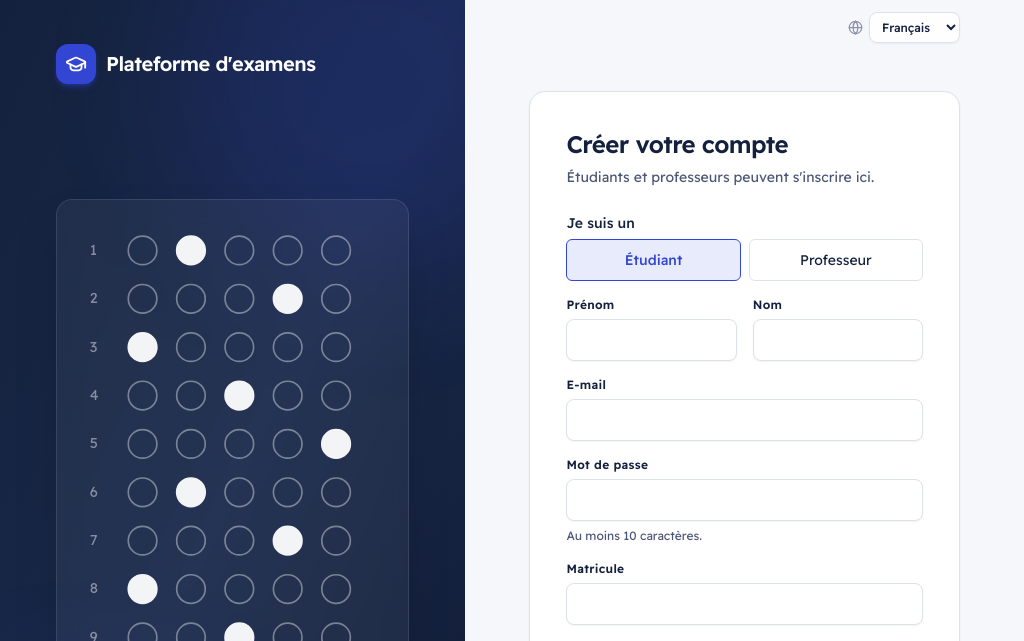
Test: register › professor form has no matricule and sends no student fields
Click the radio button labelled "Professeur" at (836, 260), box x1=749 y1=239 x2=923 y2=281
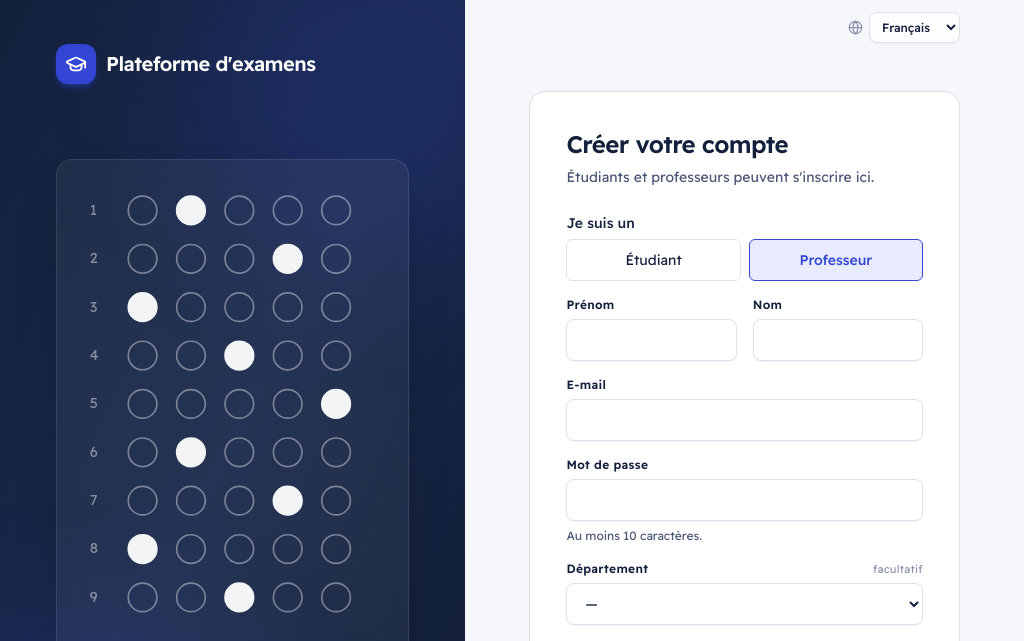
Result: the text labelled "Matricule" is gone
Type "Omar" into the field labelled "Prénom" at (652, 340), box x1=566 y1=319 x2=737 y2=361
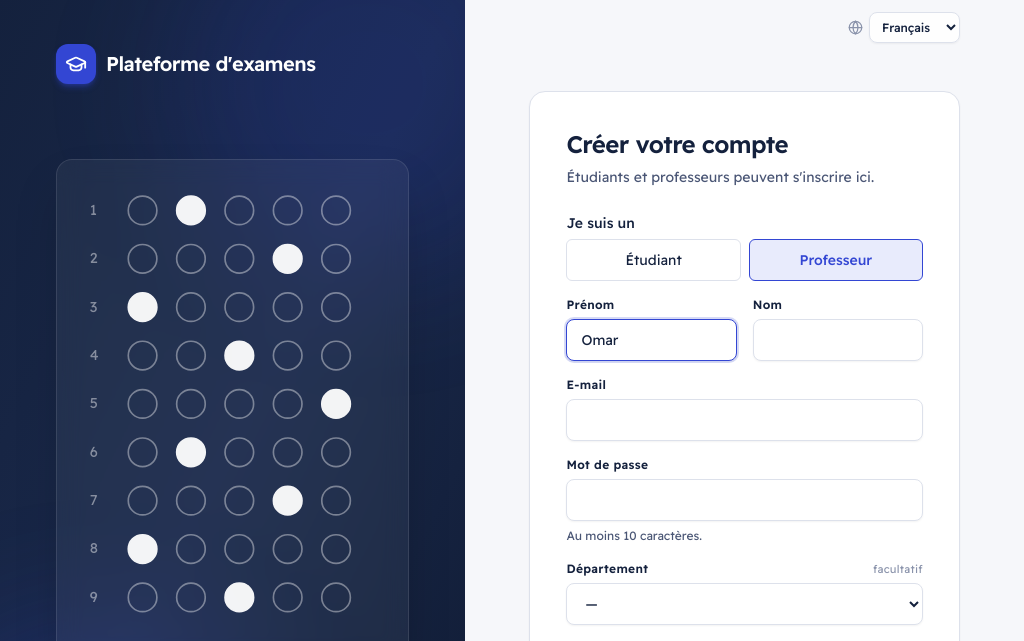
Type "K" into the field labelled "Nom" at (838, 340), box x1=753 y1=319 x2=923 y2=361
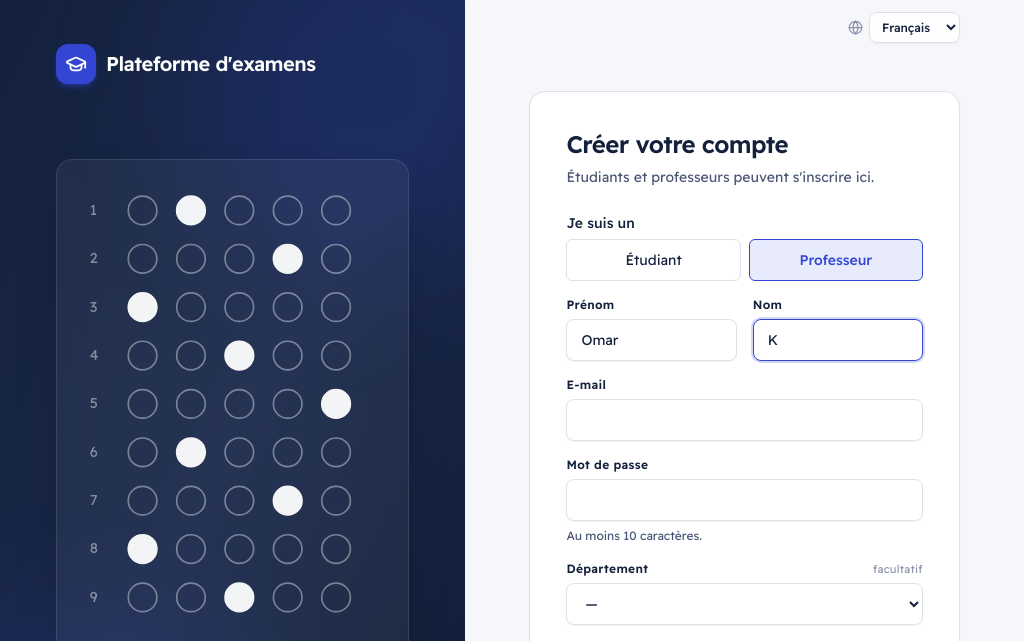
Type "omar@x.dz" into the field labelled "E-mail" at (745, 420), box x1=566 y1=399 x2=923 y2=441
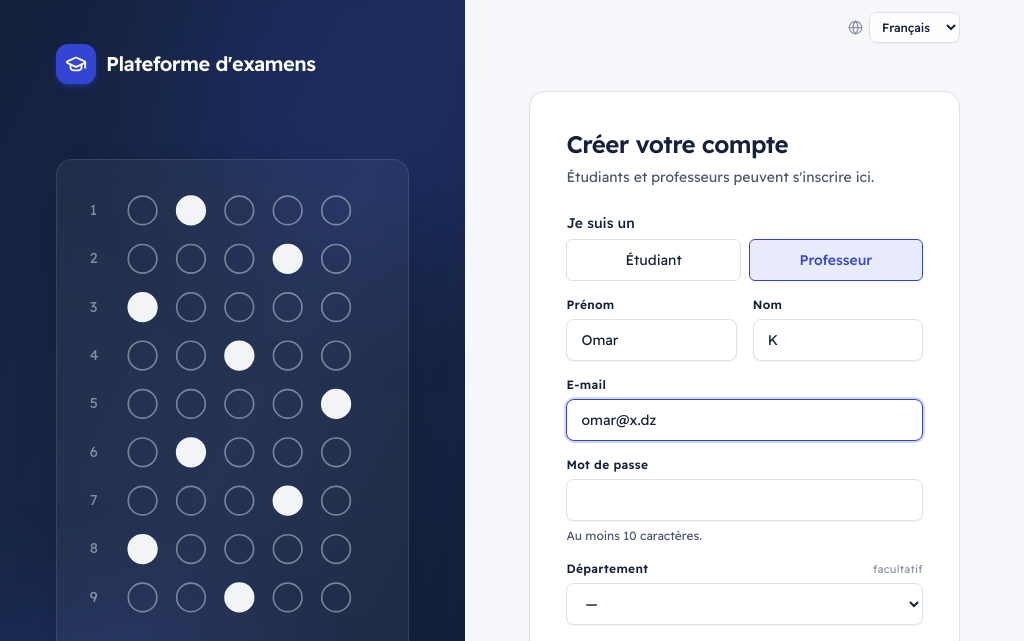
Type "Professor-Pass-1" into the password field labelled "Mot de passe" at (745, 500), box x1=566 y1=479 x2=923 y2=521
(page scrolled)
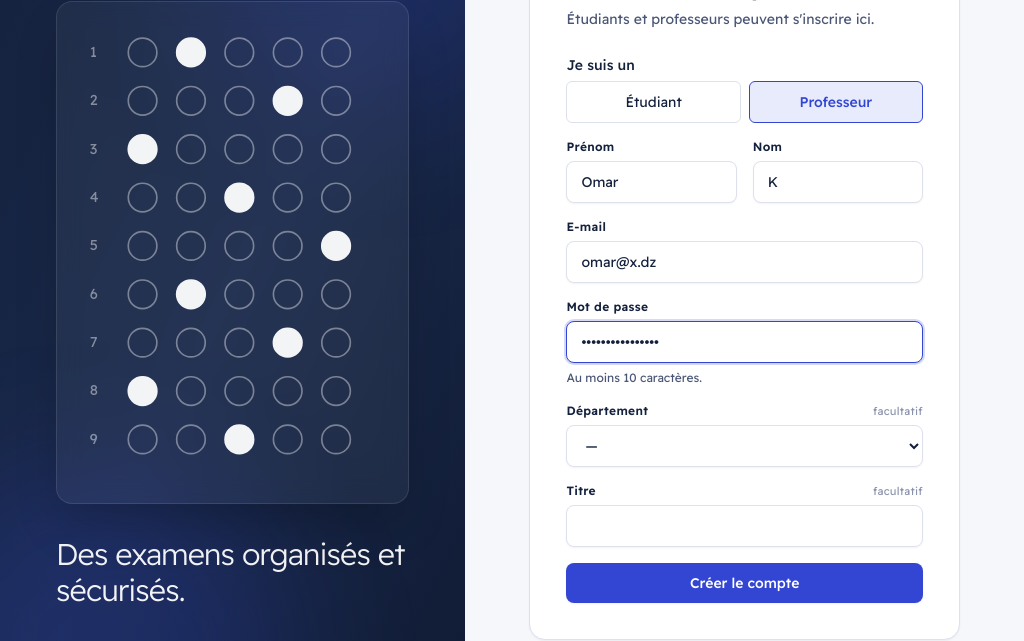
Click the button "Créer le compte" at (745, 583), box x1=566 y1=563 x2=923 y2=603
(page scrolled)
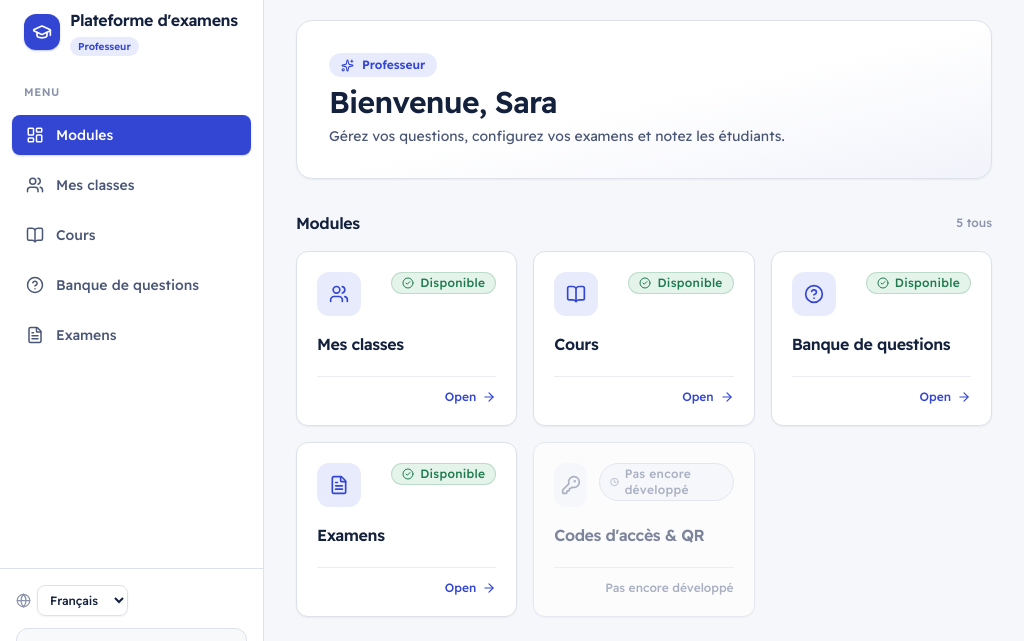
Result: the heading "Bienvenue, Sara" is shown at x1=329 y1=82 x2=557 y2=120
